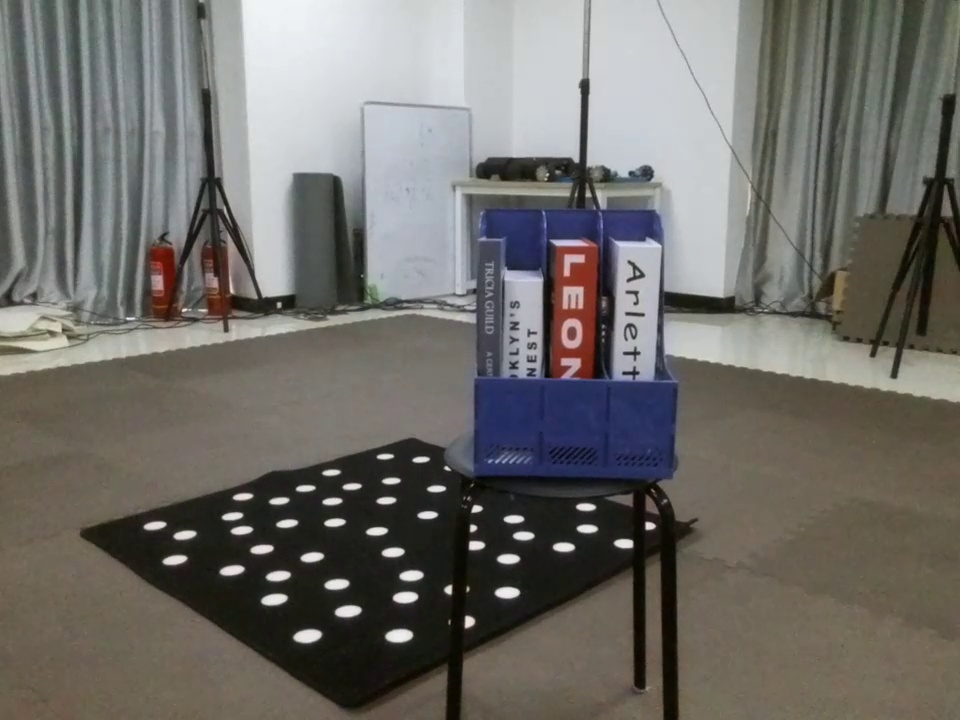files: (461, 200, 691, 487)
